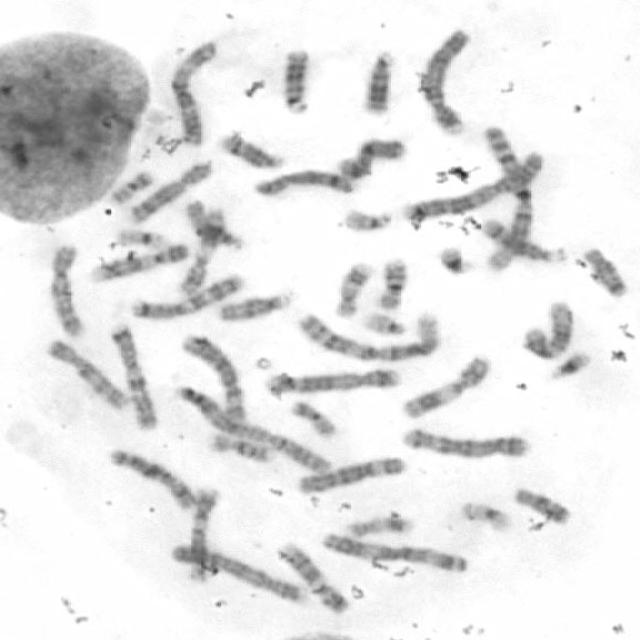A1: (477, 117, 539, 275), (294, 306, 444, 363)
A2: (170, 379, 333, 475), (400, 146, 546, 223)
A3: (314, 527, 469, 576), (164, 36, 220, 148)
B4: (165, 541, 309, 606), (414, 24, 474, 136)
B5: (398, 421, 533, 461), (261, 363, 405, 399)
C10: (41, 334, 131, 412), (44, 240, 89, 338)
C11: (396, 350, 494, 420), (173, 203, 227, 296)
C12: (182, 482, 220, 586), (516, 296, 576, 361)
C6: (178, 329, 249, 426), (291, 452, 408, 495)
C7: (127, 269, 246, 322), (107, 318, 160, 432)
C8: (127, 158, 212, 225), (249, 165, 360, 199)
C9: (274, 538, 352, 616), (84, 239, 192, 284)
D13: (276, 41, 316, 116), (358, 46, 399, 116)
D14: (480, 216, 570, 265), (213, 128, 288, 170)
D15: (181, 196, 248, 251), (212, 285, 296, 323)
E16: (203, 429, 274, 464), (371, 253, 410, 312)
E17: (330, 257, 374, 320), (341, 512, 415, 539)
E18: (579, 241, 631, 299), (510, 484, 573, 525)
F19: (457, 497, 513, 534), (112, 225, 170, 251)
F20: (287, 397, 339, 439), (106, 167, 156, 206)
G21: (544, 346, 594, 382), (432, 240, 477, 276)
G22: (336, 203, 396, 233), (359, 307, 409, 337)
X: (103, 445, 197, 512), (332, 133, 410, 182)
